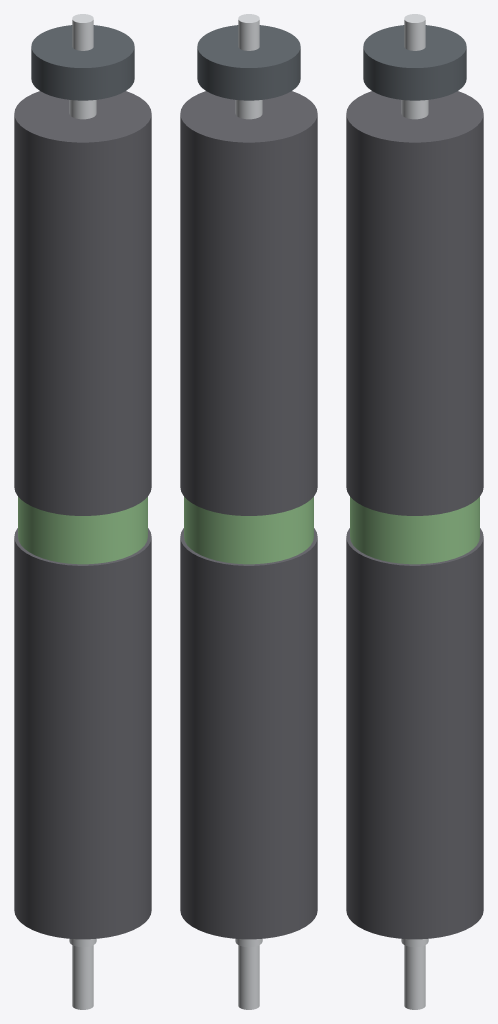
The picture shows the model from 3 angles, left to right: view 1: azimuth 90°, elevation 25°; view 2: azimuth 210°, elevation 25°; view 3: azimuth 270°, elevation 25°; orthographic projection.
Parts seen in each view (by area): view 1: part_2, part_3, part_1, part_0; view 2: part_2, part_3, part_1, part_0; view 3: part_2, part_3, part_1, part_0.
Part boxes in pixels (x1,y1,x2,y2): part_2: (14, 91, 151, 939); part_3: (31, 25, 134, 100); part_1: (18, 497, 147, 564); part_0: (69, 14, 96, 1009); part_2: (180, 91, 317, 939); part_3: (197, 25, 300, 100); part_1: (184, 497, 313, 564); part_0: (235, 14, 262, 1009); part_2: (346, 91, 483, 939); part_3: (363, 25, 466, 100); part_1: (350, 497, 479, 564); part_0: (401, 14, 428, 1009).
Size of the model in its own units: 0.0507 by 0.4027 by 0.0508.
